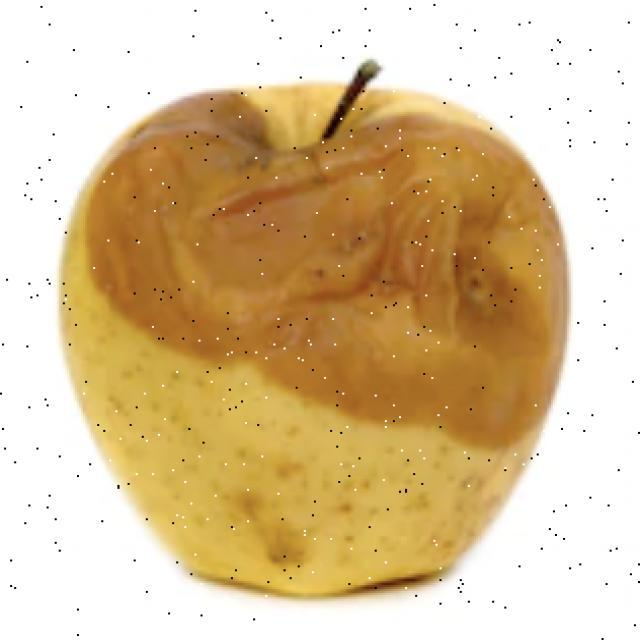Rotten: (83, 72, 577, 623)
